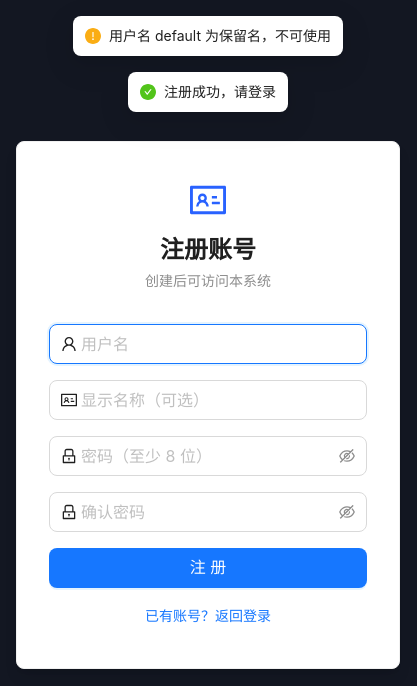
Register 页 › 重名 409：提示用户名已存在
This screenshot has width=417, height=686.
Expected: the button with test id "register-submit" is shown, left=49, top=548, right=367, bottom=588
Type "alice" into the field with test id "register-username" at [218, 344], box left=81, top=332, right=355, bottom=356
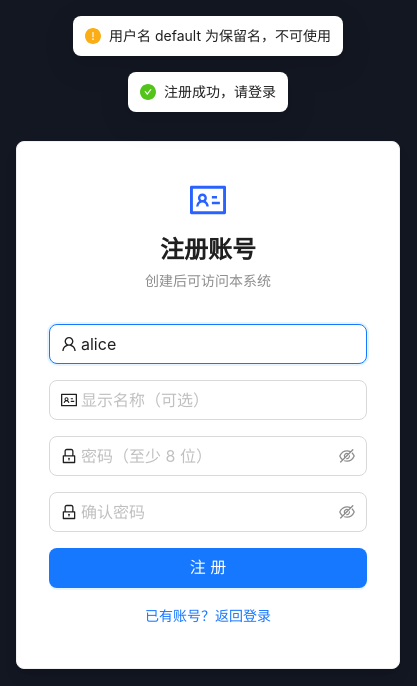
Type "password123" into the password field with test id "register-password" at [208, 456], box left=81, top=444, right=335, bottom=468
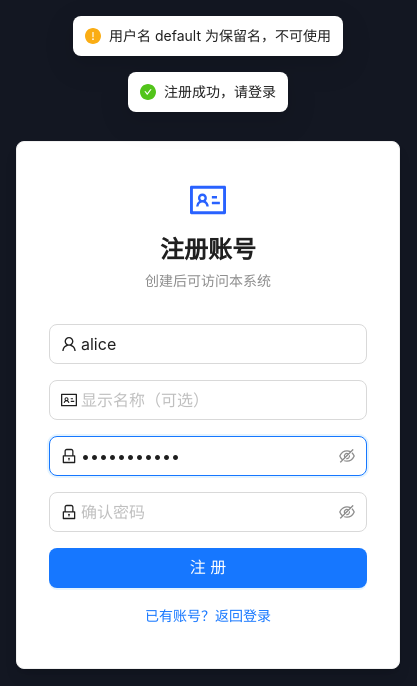
Type "password123" into the password field with test id "register-confirm" at [208, 512], box left=81, top=500, right=335, bottom=524
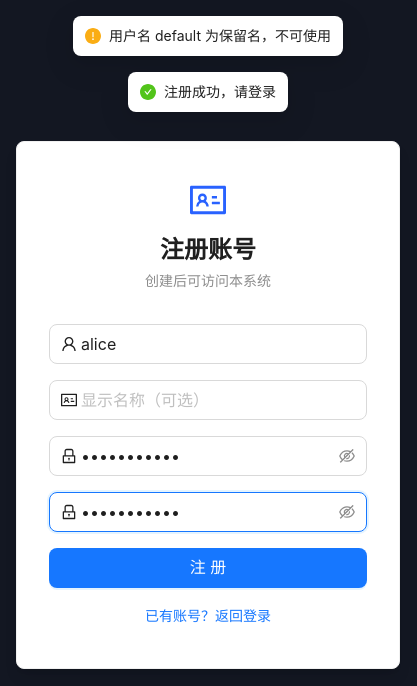
Click the button with test id "register-submit" at [208, 568], box left=49, top=548, right=367, bottom=588
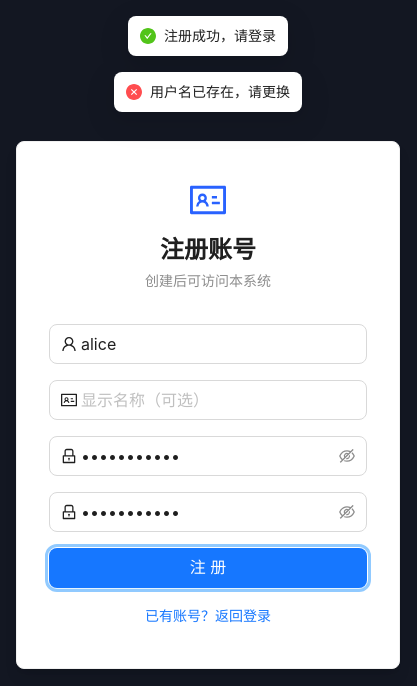
Expected: the text "用户名已存在，请更换" is shown, left=150, top=81, right=290, bottom=103
